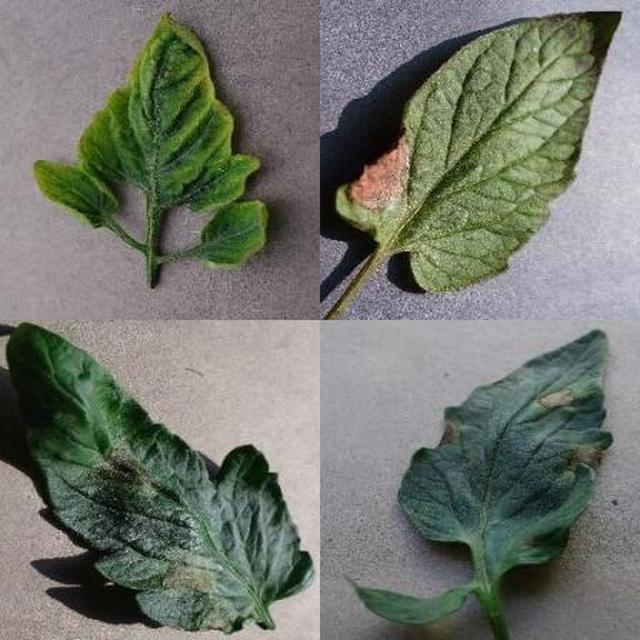Yellow Leaf Curl Virus: (107, 100, 640, 640)
